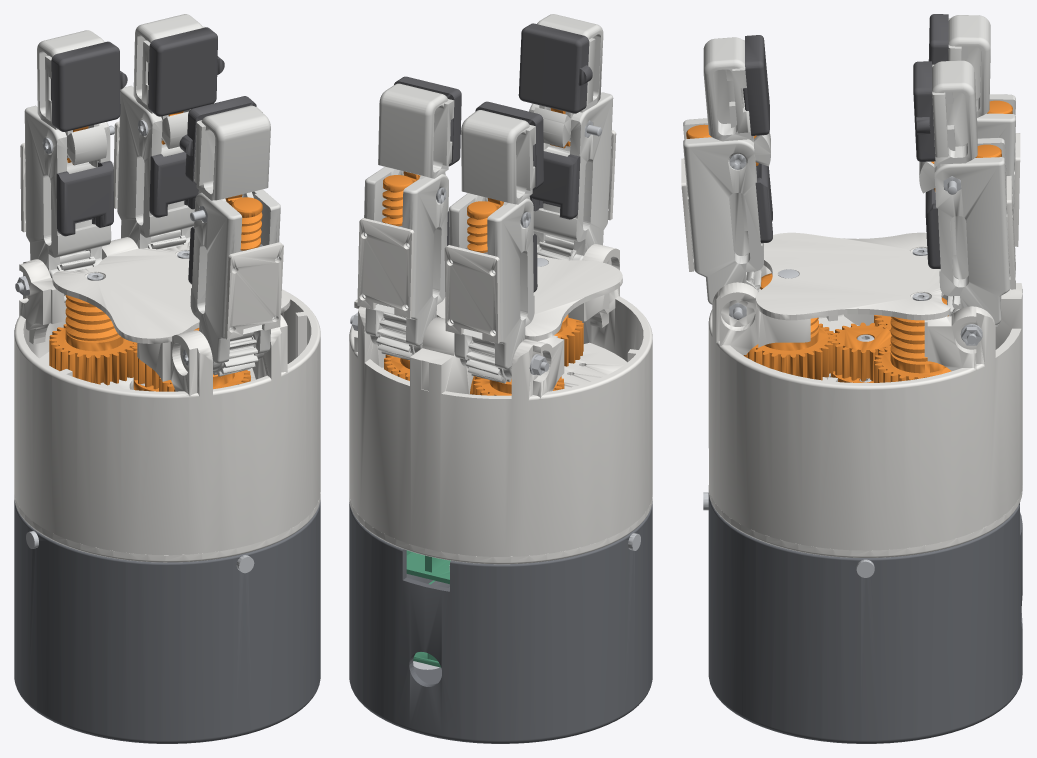
The model's file is gripper_v31.glb.
3 views of the same model, side by side, from view 1: azimuth 30°, elevation 25°; view 2: azimuth 150°, elevation 25°; view 3: azimuth 270°, elevation 25° (orthographic). The views are drawn at different scales.
Parts seen in each view (by area): view 1: 01_Palma_V31-1, 16_Acople_UR5e_V31-1, Ensamble_dedo_V31_relaciones-2 08_Falange_Proximal_V31-1, Ensamble_dedo_V31_relaciones-3 08_Falange_Proximal_V31-1, Ensamble_dedo_V31_relaciones-1 08_Falange_Proximal_V31-1, Ensamble_dedo_V31_relaciones-2 10_Falange_Distal_V31-1, Ensamble_dedo_V31_relaciones-3 14_Huella_D_V31_TPU-1, Ensamble_dedo_V31_relaciones-1 14_Huella_D_V31_TPU-1, 04_Pinon_28T_sinfin_V31-23, Ensamble_dedo_V31_relaciones-2 09_Tapa_Motor_V31-1, Ensamble_dedo_V31_relaciones-3 13_Huella_P_V31_TPU-1, Ensamble_dedo_V31_relaciones-3 10_Falange_Distal_V31-1 (+7 smaller); view 2: 01_Palma_V31-1, 16_Acople_UR5e_V31-1, Ensamble_dedo_V31_relaciones-1 08_Falange_Proximal_V31-1, Ensamble_dedo_V31_relaciones-3 08_Falange_Proximal_V31-1, Ensamble_dedo_V31_relaciones-2 08_Falange_Proximal_V31-1, Ensamble_dedo_V31_relaciones-1 10_Falange_Distal_V31-1, Ensamble_dedo_V31_relaciones-3 10_Falange_Distal_V31-1, Ensamble_dedo_V31_relaciones-2 14_Huella_D_V31_TPU-1, Ensamble_dedo_V31_relaciones-1 09_Tapa_Motor_V31-1, Ensamble_dedo_V31_relaciones-3 09_Tapa_Motor_V31-1, Ensamble_dedo_V31_relaciones-2 10_Falange_Distal_V31-1, Ensamble_dedo_V31_relaciones-2 13_Huella_P_V31_TPU-1 (+9 smaller); view 3: 01_Palma_V31-1, 16_Acople_UR5e_V31-1, Ensamble_dedo_V31_relaciones-1 08_Falange_Proximal_V31-1, Ensamble_dedo_V31_relaciones-2 08_Falange_Proximal_V31-1, Ensamble_dedo_V31_relaciones-1 10_Falange_Distal_V31-1, Ensamble_dedo_V31_relaciones-2 10_Falange_Distal_V31-1, 04_Pinon_28T_sinfin_V31-25, 04_Pinon_28T_sinfin_V31-24, Ensamble_dedo_V31_relaciones-3 10_Falange_Distal_V31-1, 03_Pinon_21T_V31-25, 15_Tapa_Dynamixel_V31-1, Ensamble_dedo_V31_relaciones-2 14_Huella_D_V31_TPU-1 (+8 smaller).
Boxes of the visible parts, x1,y1,x2,y2 form: 01_Palma_V31-1: (14,226,320,555); 16_Acople_UR5e_V31-1: (14,500,320,743); Ensamble_dedo_V31_relaciones-2 08_Falange_Proximal_V31-1: (190,189,280,376); Ensamble_dedo_V31_relaciones-3 08_Falange_Proximal_V31-1: (24,105,111,302); Ensamble_dedo_V31_relaciones-1 08_Falange_Proximal_V31-1: (117,85,194,249); Ensamble_dedo_V31_relaciones-2 10_Falange_Distal_V31-1: (194,105,270,201); Ensamble_dedo_V31_relaciones-3 14_Huella_D_V31_TPU-1: (50,41,127,131); Ensamble_dedo_V31_relaciones-1 14_Huella_D_V31_TPU-1: (148,27,224,116); 04_Pinon_28T_sinfin_V31-23: (49,295,137,385); Ensamble_dedo_V31_relaciones-2 09_Tapa_Motor_V31-1: (224,242,283,339); Ensamble_dedo_V31_relaciones-3 13_Huella_P_V31_TPU-1: (56,161,113,236); Ensamble_dedo_V31_relaciones-3 10_Falange_Distal_V31-1: (37,30,107,165); 01_Palma_V31-1: (349,244,652,556); 16_Acople_UR5e_V31-1: (349,501,652,743); Ensamble_dedo_V31_relaciones-1 08_Falange_Proximal_V31-1: (362,167,448,360); Ensamble_dedo_V31_relaciones-3 08_Falange_Proximal_V31-1: (449,193,534,383); Ensamble_dedo_V31_relaciones-2 08_Falange_Proximal_V31-1: (529,92,613,260); Ensamble_dedo_V31_relaciones-1 10_Falange_Distal_V31-1: (378,83,454,179); Ensamble_dedo_V31_relaciones-3 10_Falange_Distal_V31-1: (461,110,535,205); Ensamble_dedo_V31_relaciones-2 14_Huella_D_V31_TPU-1: (518,23,592,113); Ensamble_dedo_V31_relaciones-1 09_Tapa_Motor_V31-1: (357,218,414,318); Ensamble_dedo_V31_relaciones-3 09_Tapa_Motor_V31-1: (444,245,500,343); Ensamble_dedo_V31_relaciones-2 10_Falange_Distal_V31-1: (534,14,603,147); Ensamble_dedo_V31_relaciones-2 13_Huella_P_V31_TPU-1: (529,151,580,219); 01_Palma_V31-1: (708,232,1022,550); 16_Acople_UR5e_V31-1: (708,493,1022,743); Ensamble_dedo_V31_relaciones-1 08_Falange_Proximal_V31-1: (934,137,1010,326); Ensamble_dedo_V31_relaciones-2 08_Falange_Proximal_V31-1: (683,118,763,304); Ensamble_dedo_V31_relaciones-1 10_Falange_Distal_V31-1: (919,60,977,193); Ensamble_dedo_V31_relaciones-2 10_Falange_Distal_V31-1: (703,37,770,166); 04_Pinon_28T_sinfin_V31-25: (743,273,835,380); 04_Pinon_28T_sinfin_V31-24: (874,297,951,382); Ensamble_dedo_V31_relaciones-3 10_Falange_Distal_V31-1: (948,15,990,117); 03_Pinon_21T_V31-25: (829,322,891,381); 15_Tapa_Dynamixel_V31-1: (708,485,1022,557); Ensamble_dedo_V31_relaciones-2 14_Huella_D_V31_TPU-1: (743,35,769,135).
Bounding box in the file's own units: 0.1033 × 0.2283 × 0.1087.
